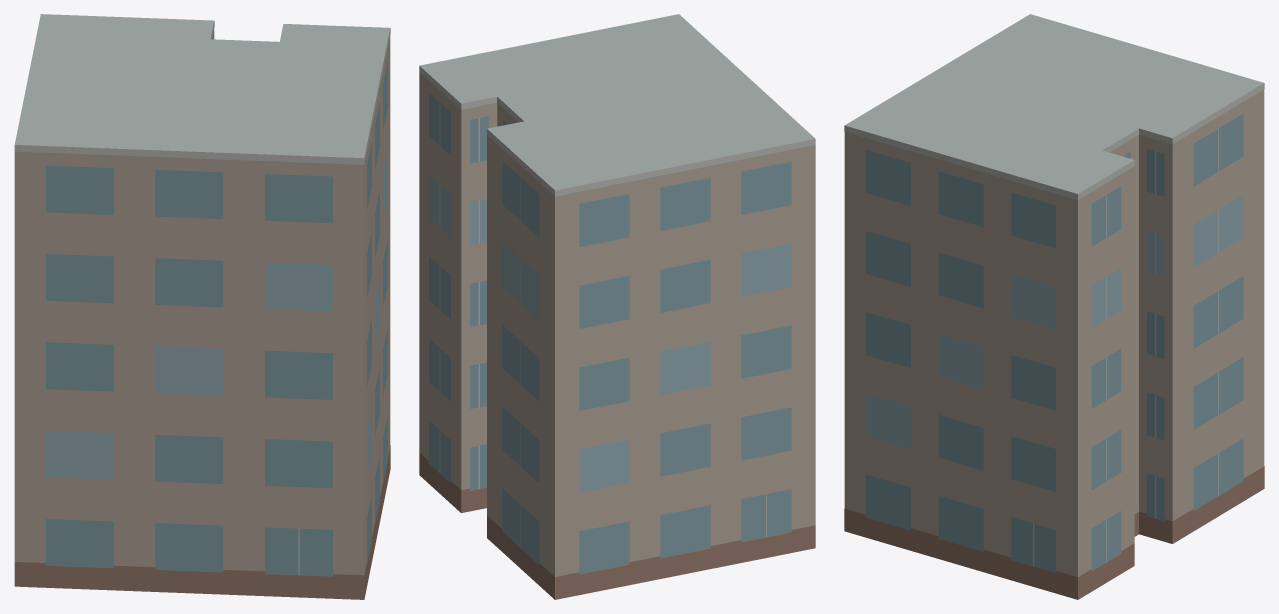
Rendered from survey-upis-32832207.glb.
3 renders of one model, left to right at view 1: azimuth 30°, elevation 25°; view 2: azimuth 150°, elevation 25°; view 3: azimuth 270°, elevation 25°, orthographic. The views are drawn at different scales.
Parts seen in each view (by area): view 1: survey-upis-32832207.tmp; view 2: survey-upis-32832207.tmp; view 3: survey-upis-32832207.tmp.
Part boxes in pixels (left/top/right/bottom): survey-upis-32832207.tmp: left=14, top=14, right=390, bottom=599; survey-upis-32832207.tmp: left=419, top=14, right=815, bottom=599; survey-upis-32832207.tmp: left=844, top=14, right=1264, bottom=599.
Bounding box in the file's own units: 15.43 × 16.2 × 15.21.
